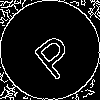P: (25, 25, 80, 82)
